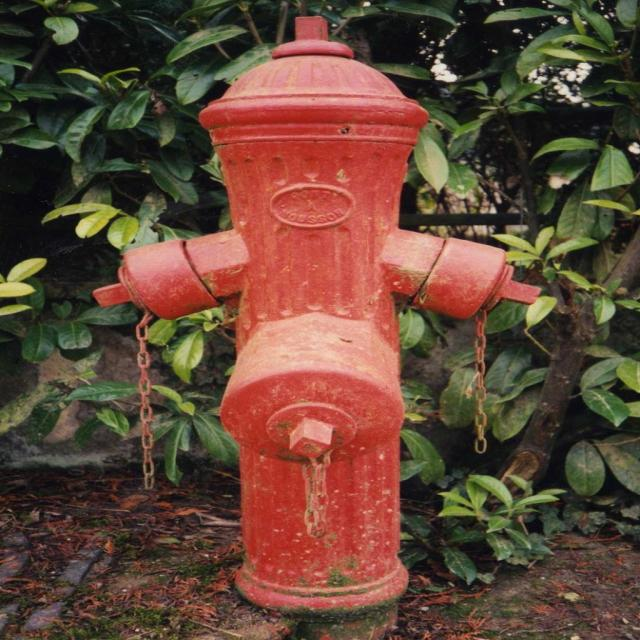fire_hydrant: (91, 16, 542, 640)
